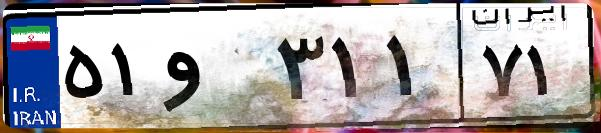1: (385, 28, 445, 110), (330, 28, 385, 110), (525, 38, 570, 115), (110, 28, 158, 98)
3: (270, 28, 330, 110)
5: (57, 26, 110, 100)
7: (475, 38, 525, 113)
و: (158, 20, 270, 120)
